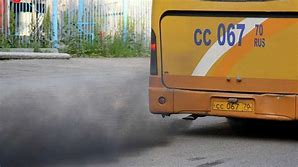smoke: (1, 116, 191, 167)
